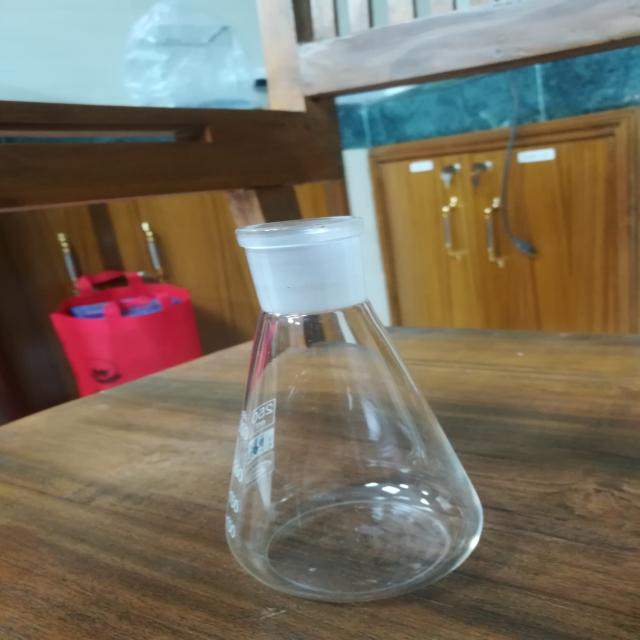Conical_Flask: (194, 168, 562, 635)
